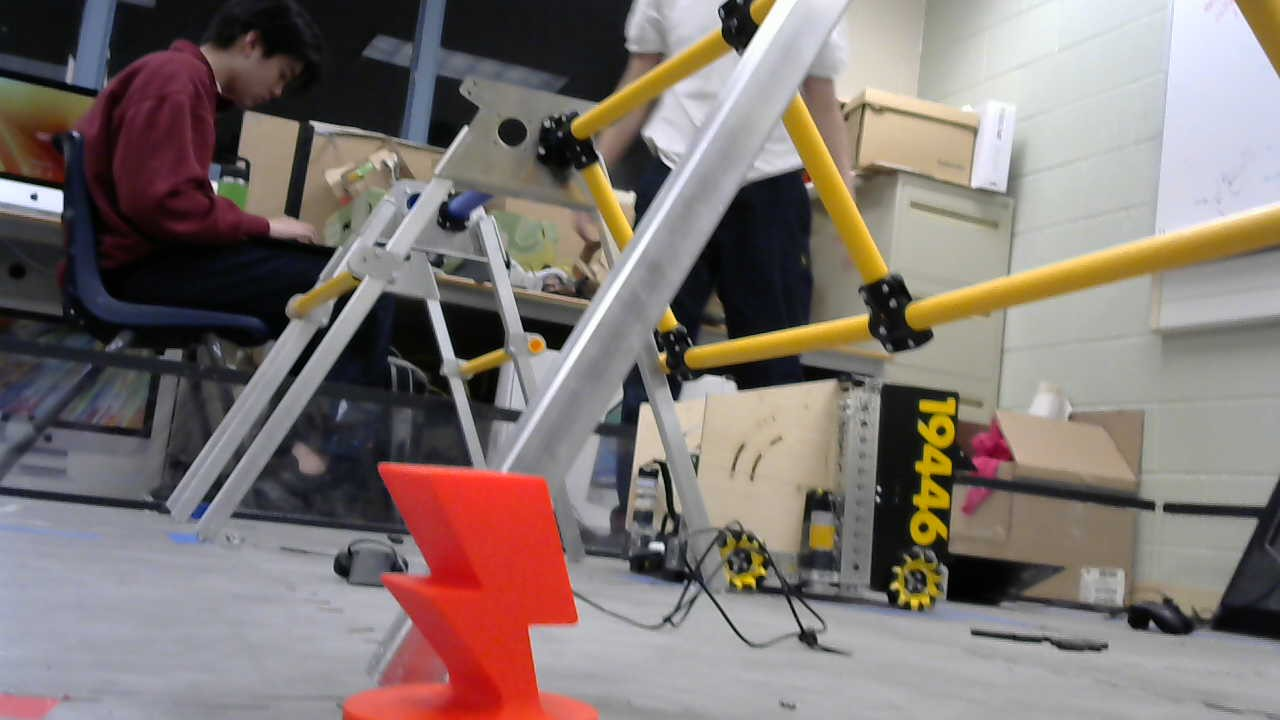redobject: (325, 457, 611, 720)
